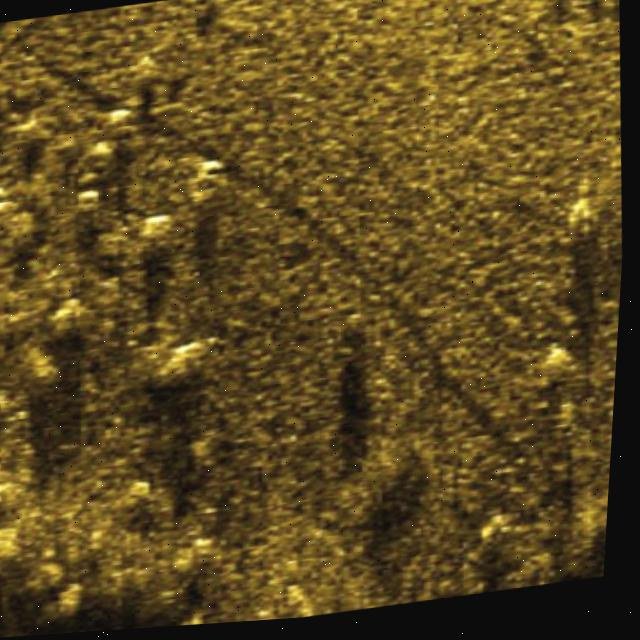bedrock group: (0, 45, 278, 640)
